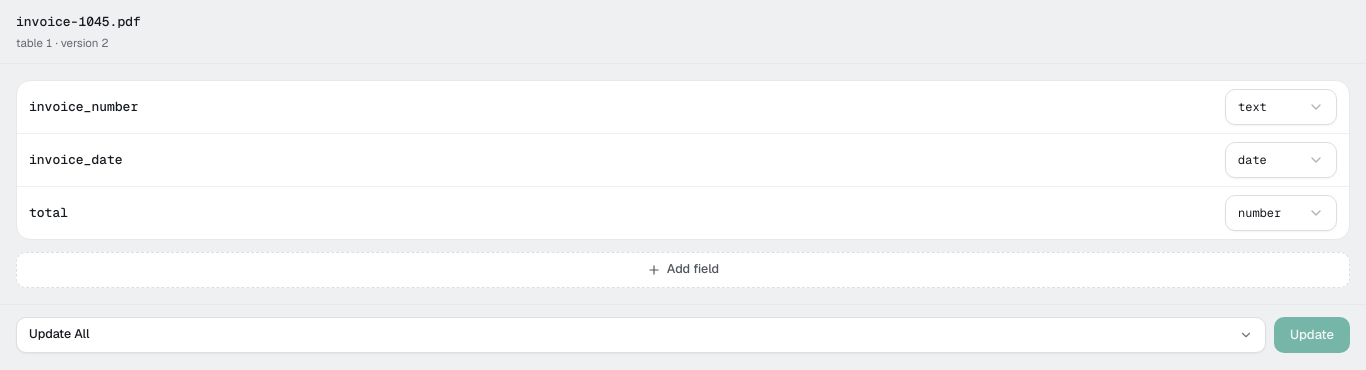
Scenario: SchemaEditor › keeps the count out of the button and inside the choice it opens
What coordinates should you click on to do the following:
click the button "Update All"
I would click on:
 (59, 334)
Its box is [16,317,1266,353].
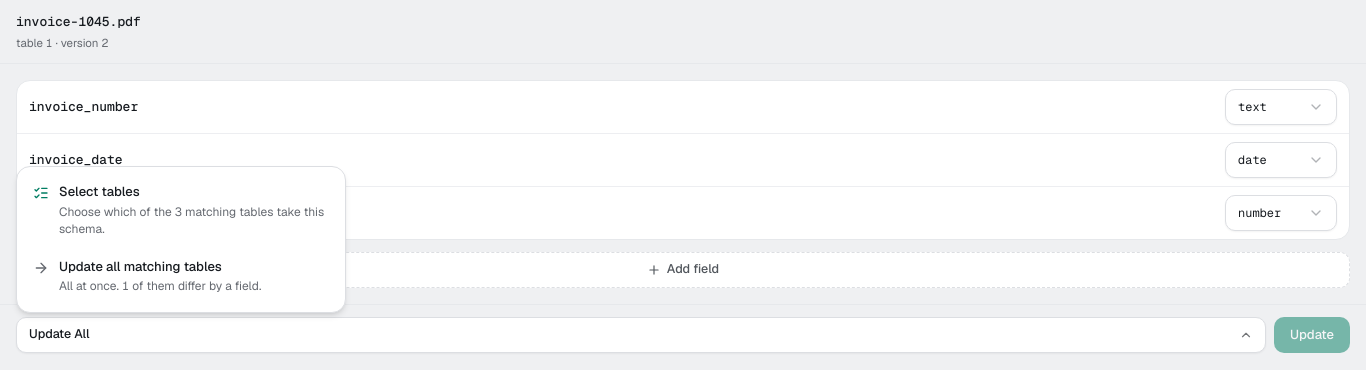
Now the text "Choose which of the 3 matching tables take this schema." is shown, box [59,204,329,238]
Now the text "All at once. 1 of them differ by a field." is shown, box [59,278,261,296]
